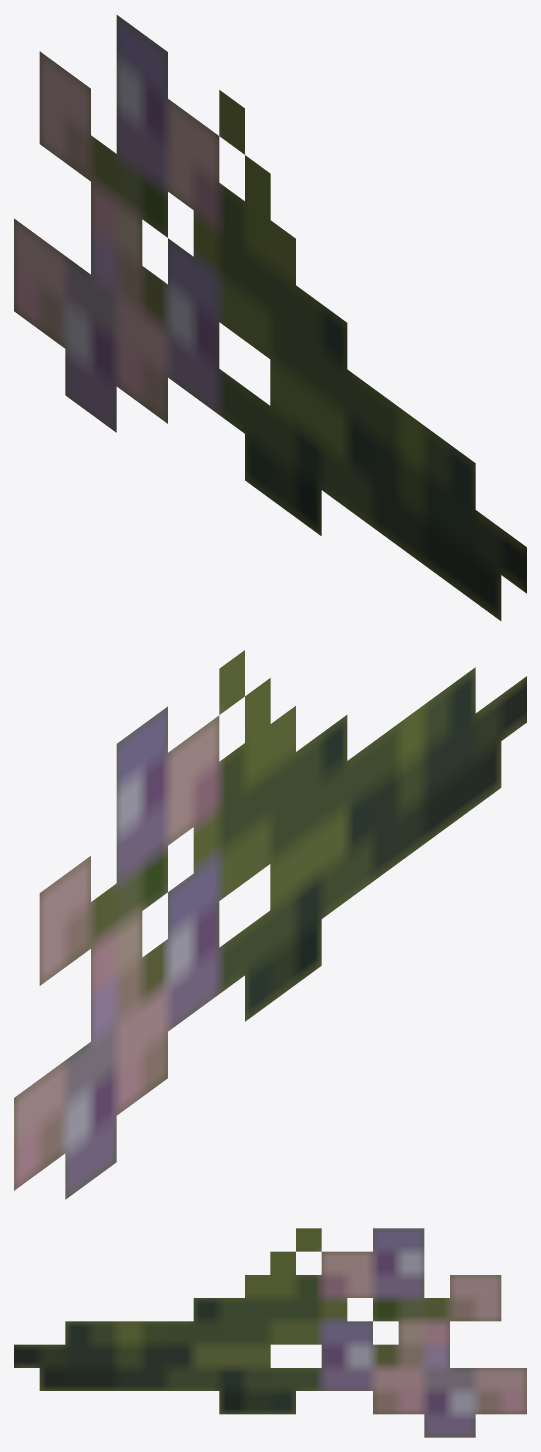
Rendered from ObjMD_Cemetery_Flower_C.FBX.
3 renders of one model, top to bottom at view 1: azimuth 30°, elevation 25°; view 2: azimuth 150°, elevation 25°; view 3: azimuth 270°, elevation 25°, orthographic. The views are drawn at different scales.
Visible parts, largest first — view 1: ObjMD_Cemetery_Flower_C; view 2: ObjMD_Cemetery_Flower_C; view 3: ObjMD_Cemetery_Flower_C.
Boxes of the visible parts, x1=… form: ObjMD_Cemetery_Flower_C: x1=14, y1=15, x2=526, y2=620; ObjMD_Cemetery_Flower_C: x1=14, y1=650, x2=526, y2=1199; ObjMD_Cemetery_Flower_C: x1=14, y1=1228, x2=526, y2=1437.
Bounding box in the file's own units: 7.01e-14 × 56.25 × 125.
